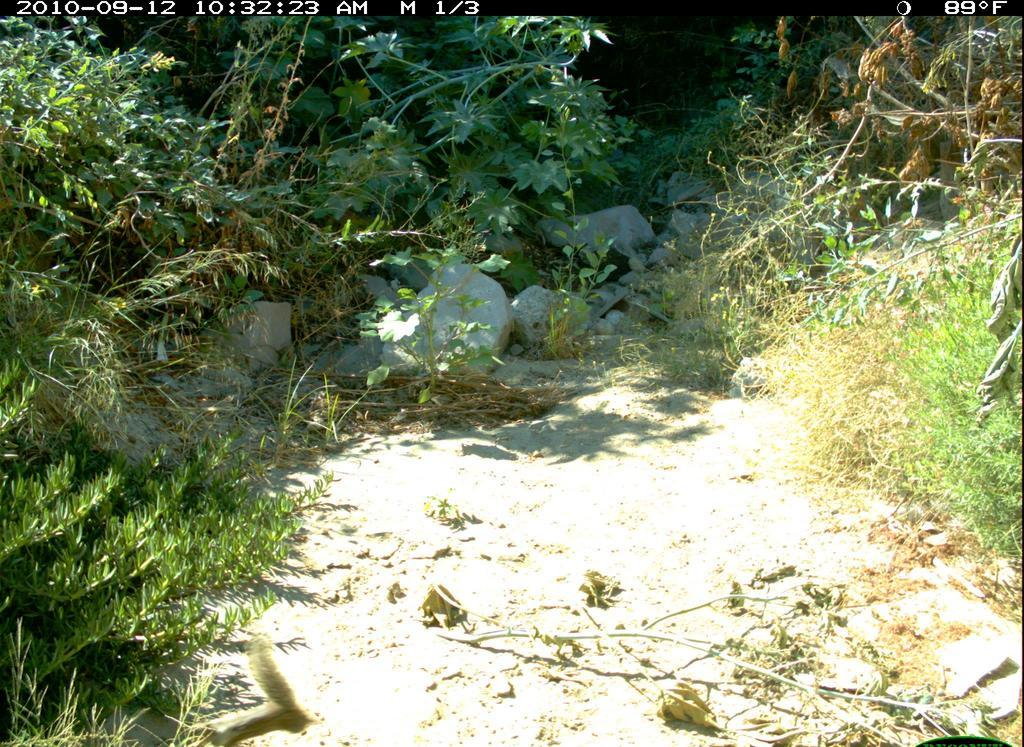squirrel: (198, 628, 315, 747)
